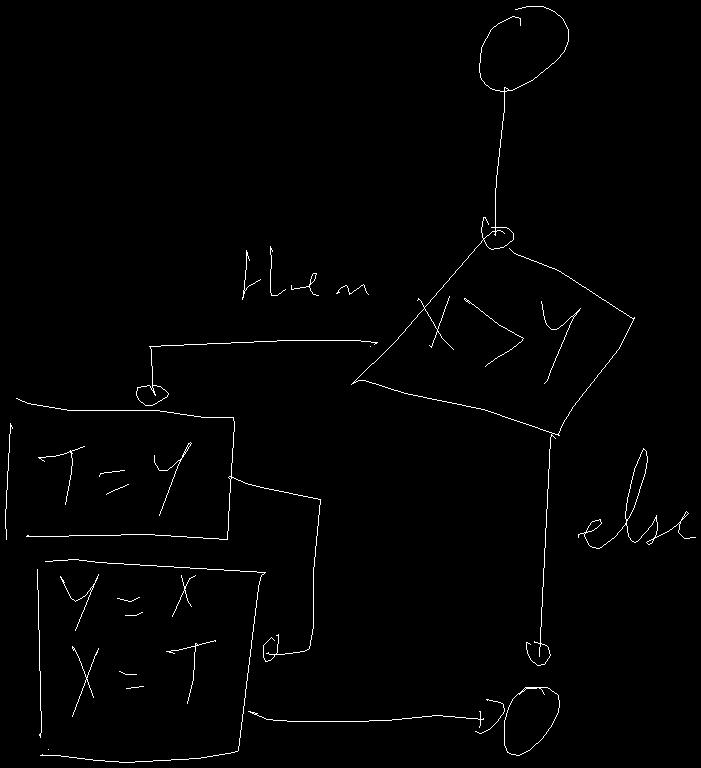arrow: (228, 476, 320, 661), (136, 340, 377, 405), (248, 699, 504, 733), (526, 434, 555, 665), (481, 87, 513, 249)
connection: (479, 6, 568, 91), (504, 687, 559, 755)
decision: (351, 230, 634, 435)
process: (37, 559, 265, 762), (5, 398, 234, 539)
text: (60, 574, 215, 716), (417, 296, 580, 383), (578, 448, 695, 548), (38, 442, 191, 515), (242, 246, 368, 299)
